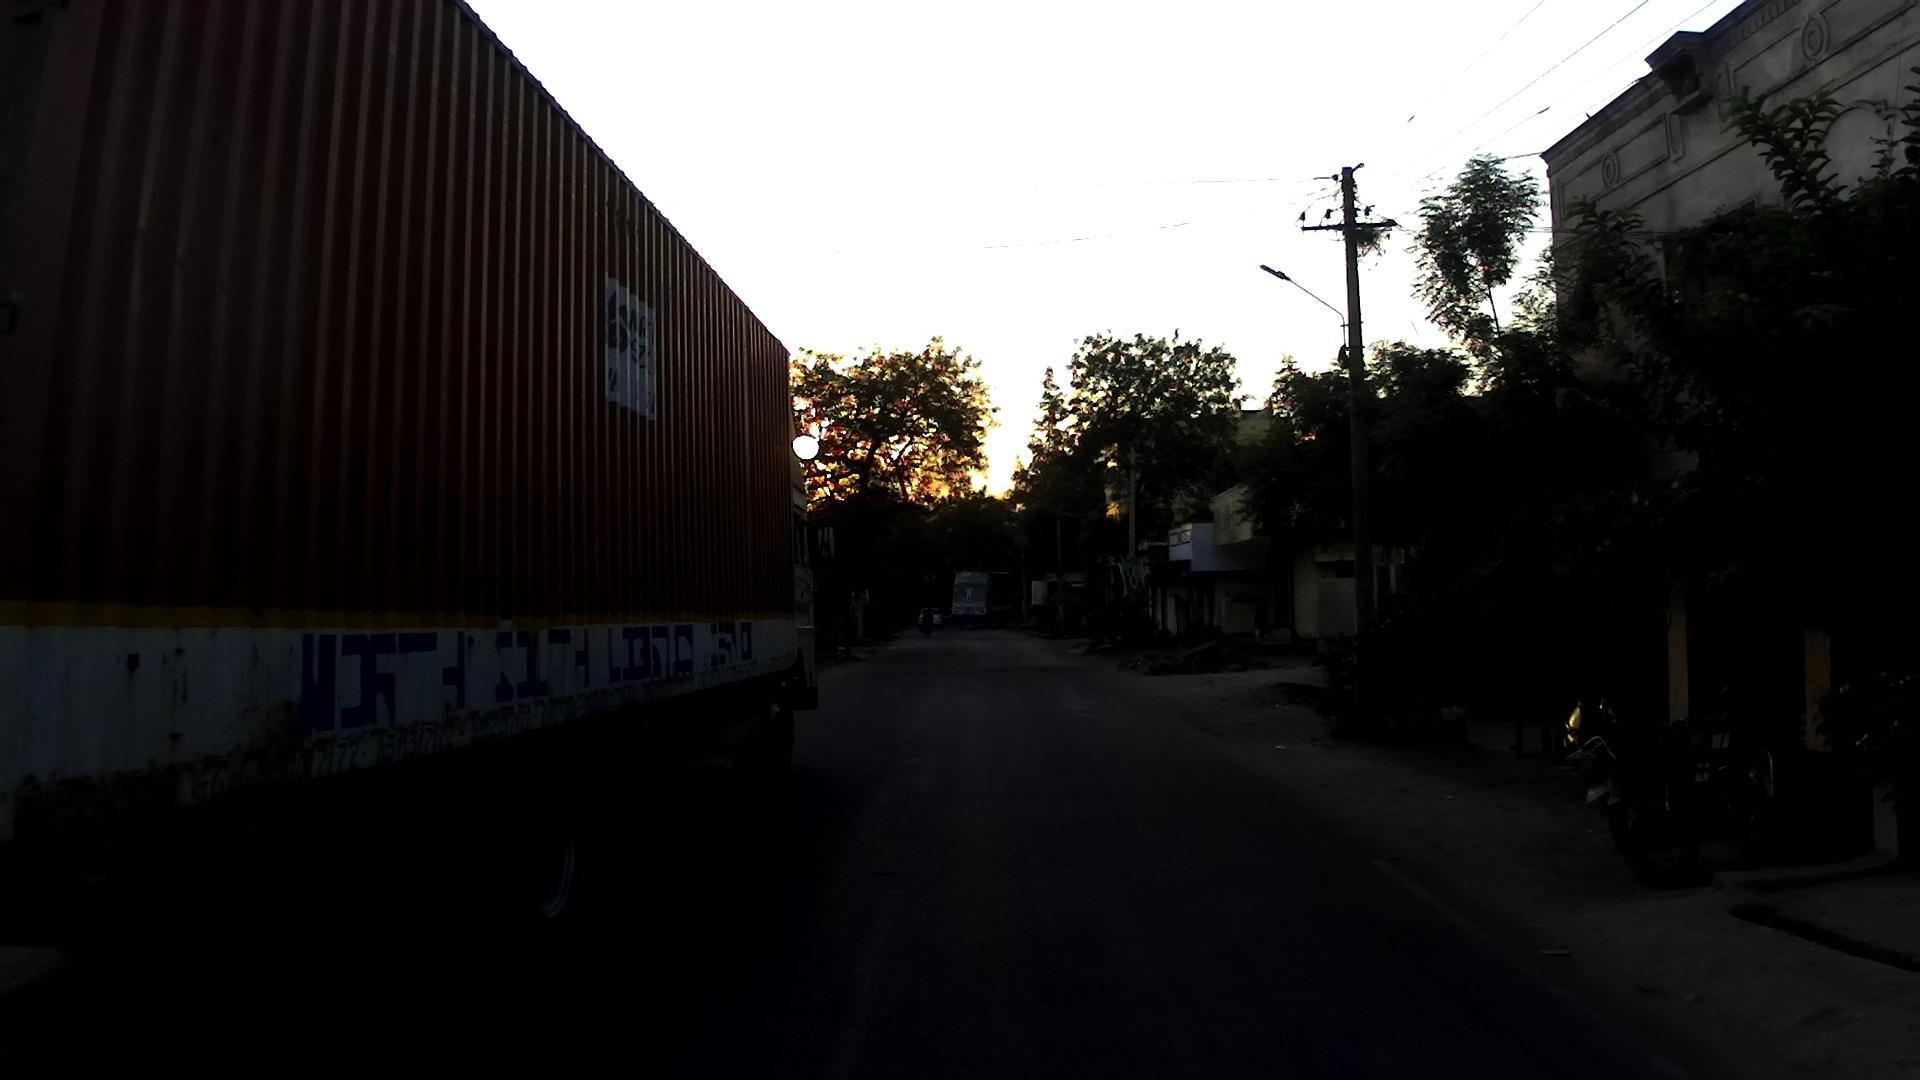off: (527, 112, 781, 187)
